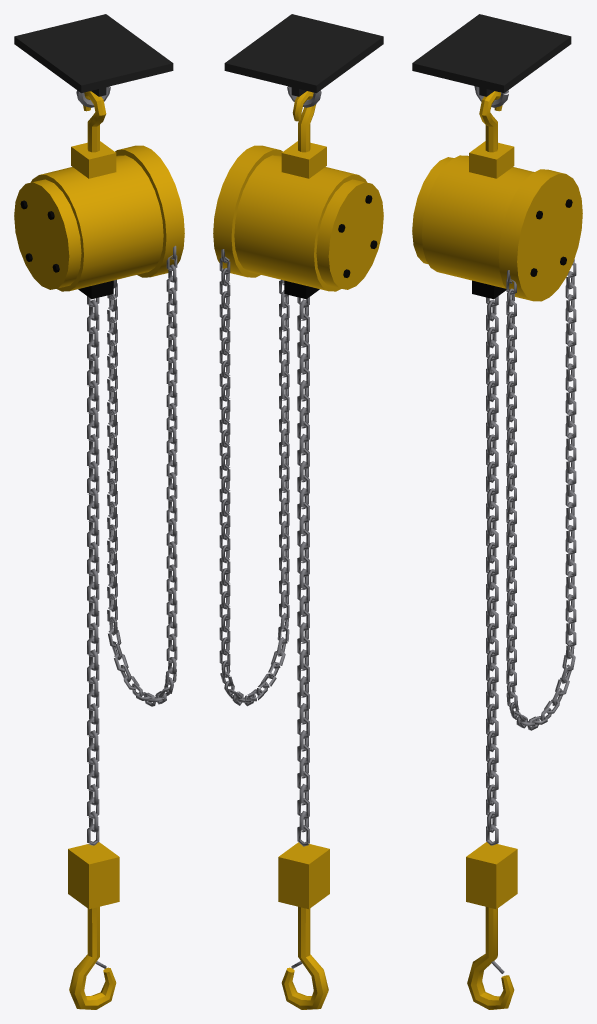
File: chain-hoist.glb
3 renders of one model, left to right at view 1: azimuth 30°, elevation 25°; view 2: azimuth 150°, elevation 25°; view 3: azimuth 330°, elevation 25°, orthographic.
Visible parts, largest first — view 1: hoist_swing, hoist_mount; view 2: hoist_swing, hoist_mount; view 3: hoist_swing, hoist_mount.
Boxes of the visible parts, x1,y1,x2,y2 form: hoist_swing: [14, 91, 184, 1009]; hoist_mount: [14, 14, 173, 107]; hoist_swing: [213, 91, 383, 1009]; hoist_mount: [224, 14, 383, 107]; hoist_swing: [412, 91, 582, 1009]; hoist_mount: [412, 14, 571, 107].
Bounding box in the file's own units: 0.19 × 1.5 × 0.19.
